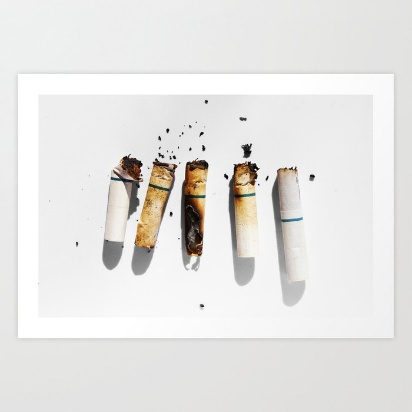cigarette: (225, 160, 266, 261), (273, 163, 306, 286), (138, 154, 174, 250), (182, 158, 210, 258), (103, 152, 131, 248)
